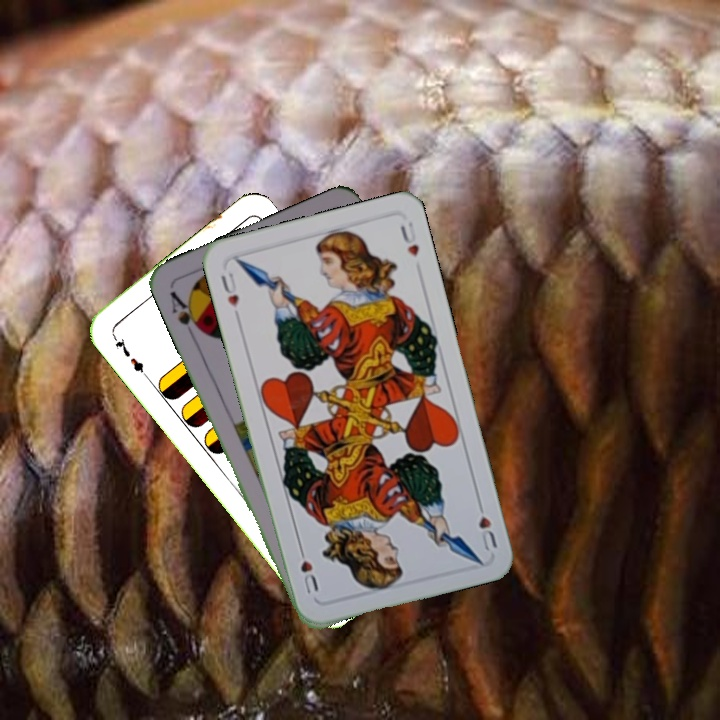E7: (108, 330, 150, 380)
HU: (473, 496, 500, 555), (216, 268, 242, 321)
SA: (166, 287, 207, 341)
